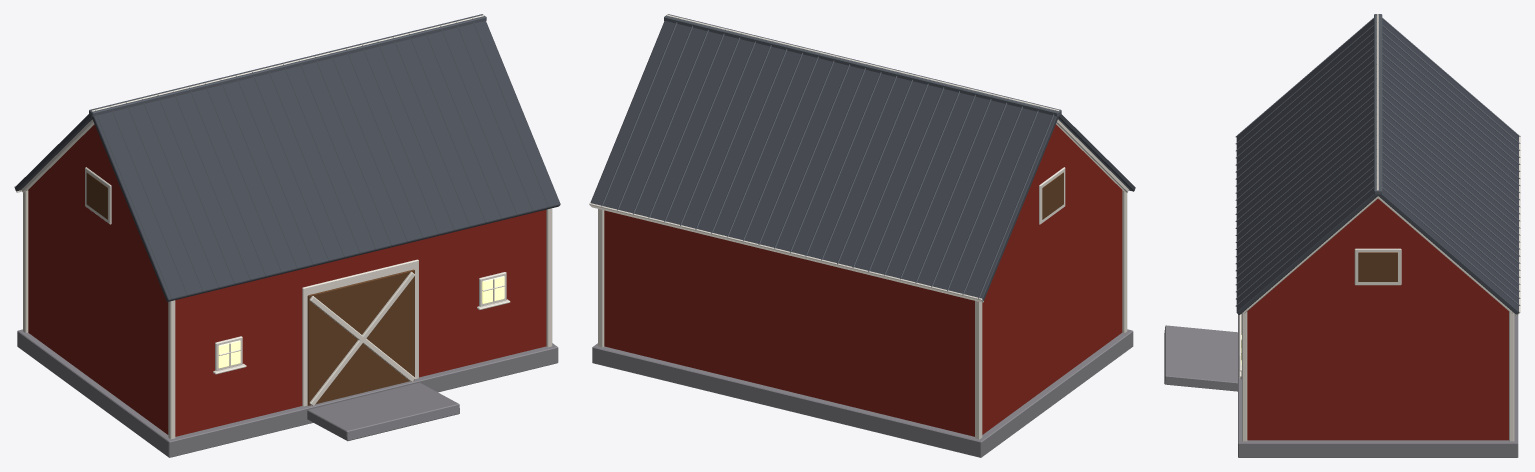
File: lada.glb
3 renders of one model, left to right at view 1: azimuth 30°, elevation 25°; view 2: azimuth 150°, elevation 25°; view 3: azimuth 270°, elevation 25°, orthographic. The views are drawn at different scales.
Parts seen in each view (by area): view 1: lada; view 2: lada; view 3: lada.
Boxes of the visible parts, bbox=[...] form: lada: bbox=[14, 14, 560, 457]; lada: bbox=[589, 14, 1135, 457]; lada: bbox=[1164, 14, 1520, 457].
Size of the model in its own units: 12.55 by 8.9 by 10.68.
